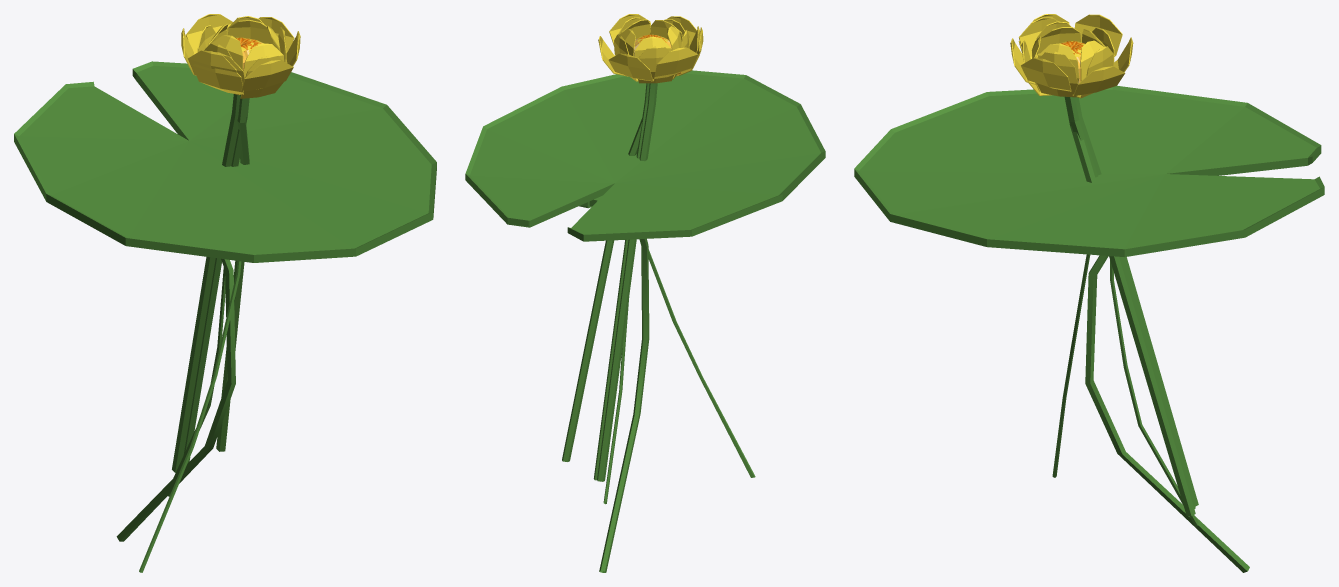
Rendered from 萍蓬草.fbx.
3 views of the same model, side by side, from view 1: azimuth 30°, elevation 25°; view 2: azimuth 150°, elevation 25°; view 3: azimuth 270°, elevation 25° (orthographic). The views are drawn at different scales.
Parts seen in each view (by area): view 1: p_4, pengpingcao, p_3, p_2, p_6, p_5; view 2: p_4, pengpingcao, p_2, p_3, p_6, p_5; view 3: p_4, p_2, pengpingcao, p_3, p_5, p_6.
Part boxes in pixels (x1=…): p_4: x1=14, y1=61, x2=436, y2=541; pengpingcao: x1=172, y1=14, x2=300, y2=472; p_3: x1=183, y1=19, x2=284, y2=463; p_2: x1=192, y1=16, x2=286, y2=451; p_6: x1=139, y1=261, x2=241, y2=572; p_5: x1=168, y1=267, x2=225, y2=496; p_4: x1=465, y1=70, x2=825, y2=572; pengpingcao: x1=597, y1=14, x2=703, y2=481; p_2: x1=562, y1=17, x2=700, y2=461; p_3: x1=593, y1=19, x2=699, y2=480; p_6: x1=589, y1=195, x2=755, y2=477; p_5: x1=579, y1=201, x2=629, y2=504; p_4: x1=854, y1=85, x2=1324, y2=572; p_2: x1=1018, y1=21, x2=1195, y2=516; pengpingcao: x1=1010, y1=14, x2=1198, y2=506; p_3: x1=1019, y1=17, x2=1195, y2=508; p_5: x1=1110, y1=260, x2=1198, y2=526; p_6: x1=1052, y1=254, x2=1090, y2=477.
Size of the model in its own units: 32.11 by 50.48 by 38.92.
